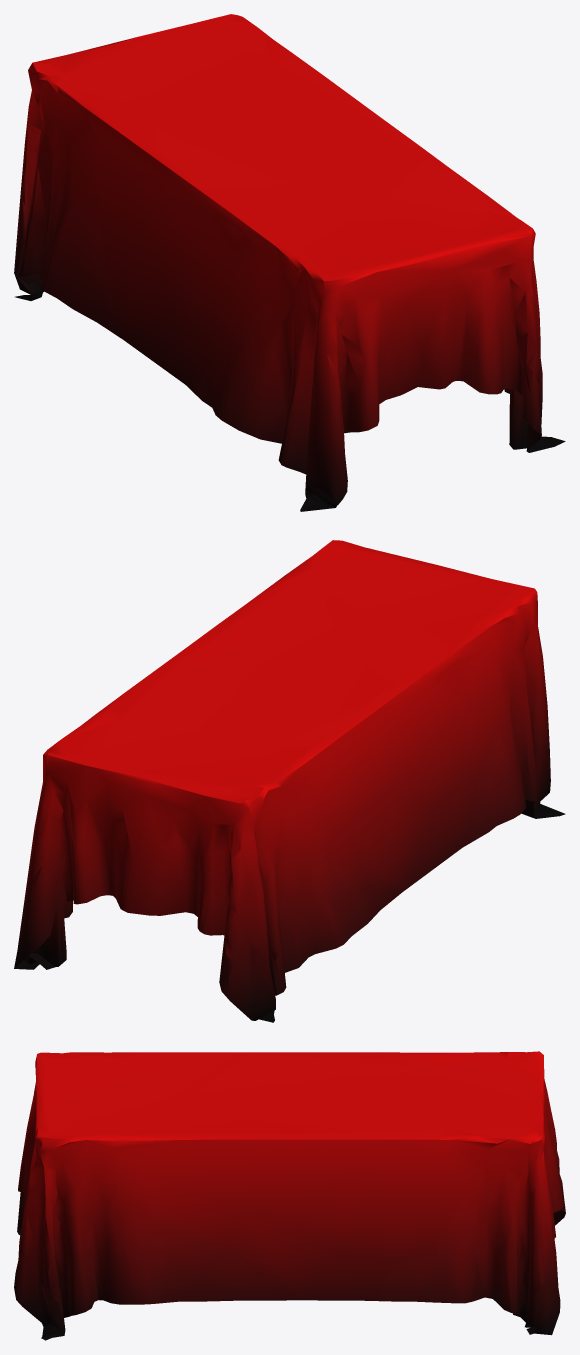
Rendered from SM_DrapeTable.fbx.
3 renders of one model, top to bottom at view 1: azimuth 30°, elevation 25°; view 2: azimuth 150°, elevation 25°; view 3: azimuth 270°, elevation 25°, orthographic. The views are drawn at different scales.
Parts seen in each view (by area): view 1: transform4; view 2: transform4; view 3: transform4.
Boxes of the visible parts, bbox=[...] form: transform4: bbox=[14, 14, 565, 511]; transform4: bbox=[14, 540, 565, 1022]; transform4: bbox=[14, 1051, 565, 1340].
Bounding box in the file's own units: 55.54 × 40.72 × 106.
